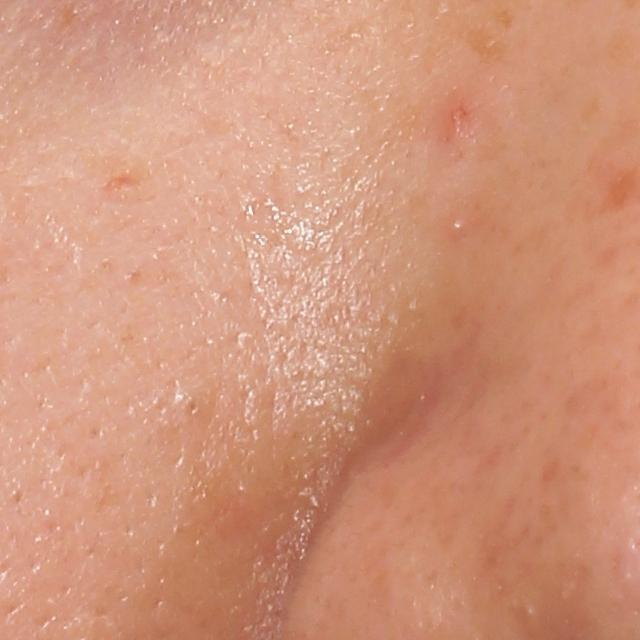comedo: (450, 217, 465, 230)
melasma: (457, 17, 510, 77)
papule: (448, 102, 471, 131)
